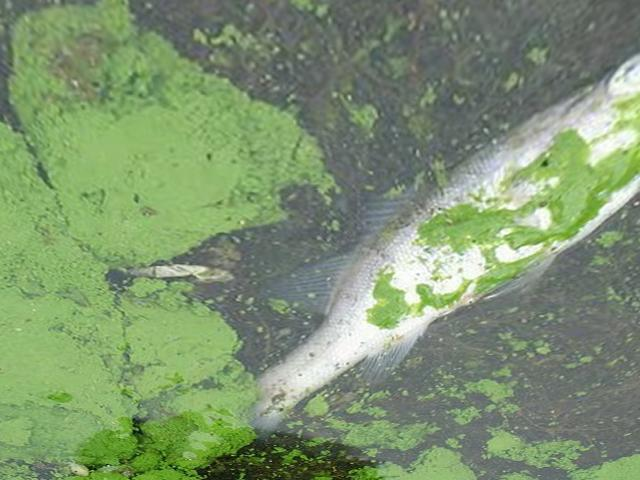Eutrophication Pollution: (0, 0, 325, 480)
